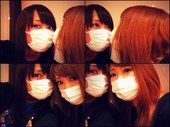face_mask: (27, 12, 55, 52), (58, 68, 89, 104), (110, 64, 140, 101), (86, 12, 112, 51), (27, 63, 52, 99), (87, 63, 110, 96)
